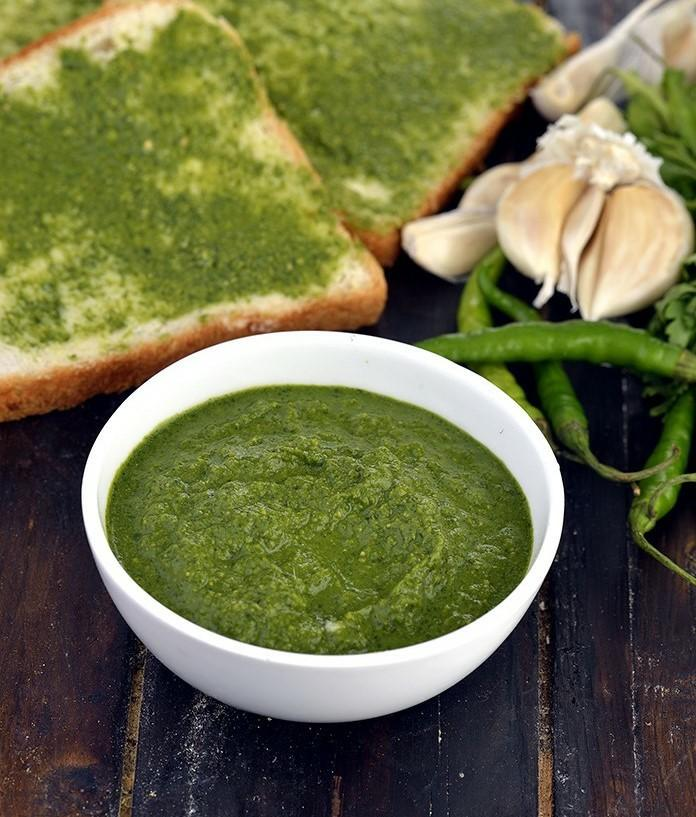GreenChutney: (107, 386, 532, 654)
